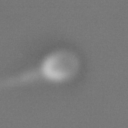normal: (1, 64, 39, 96)
